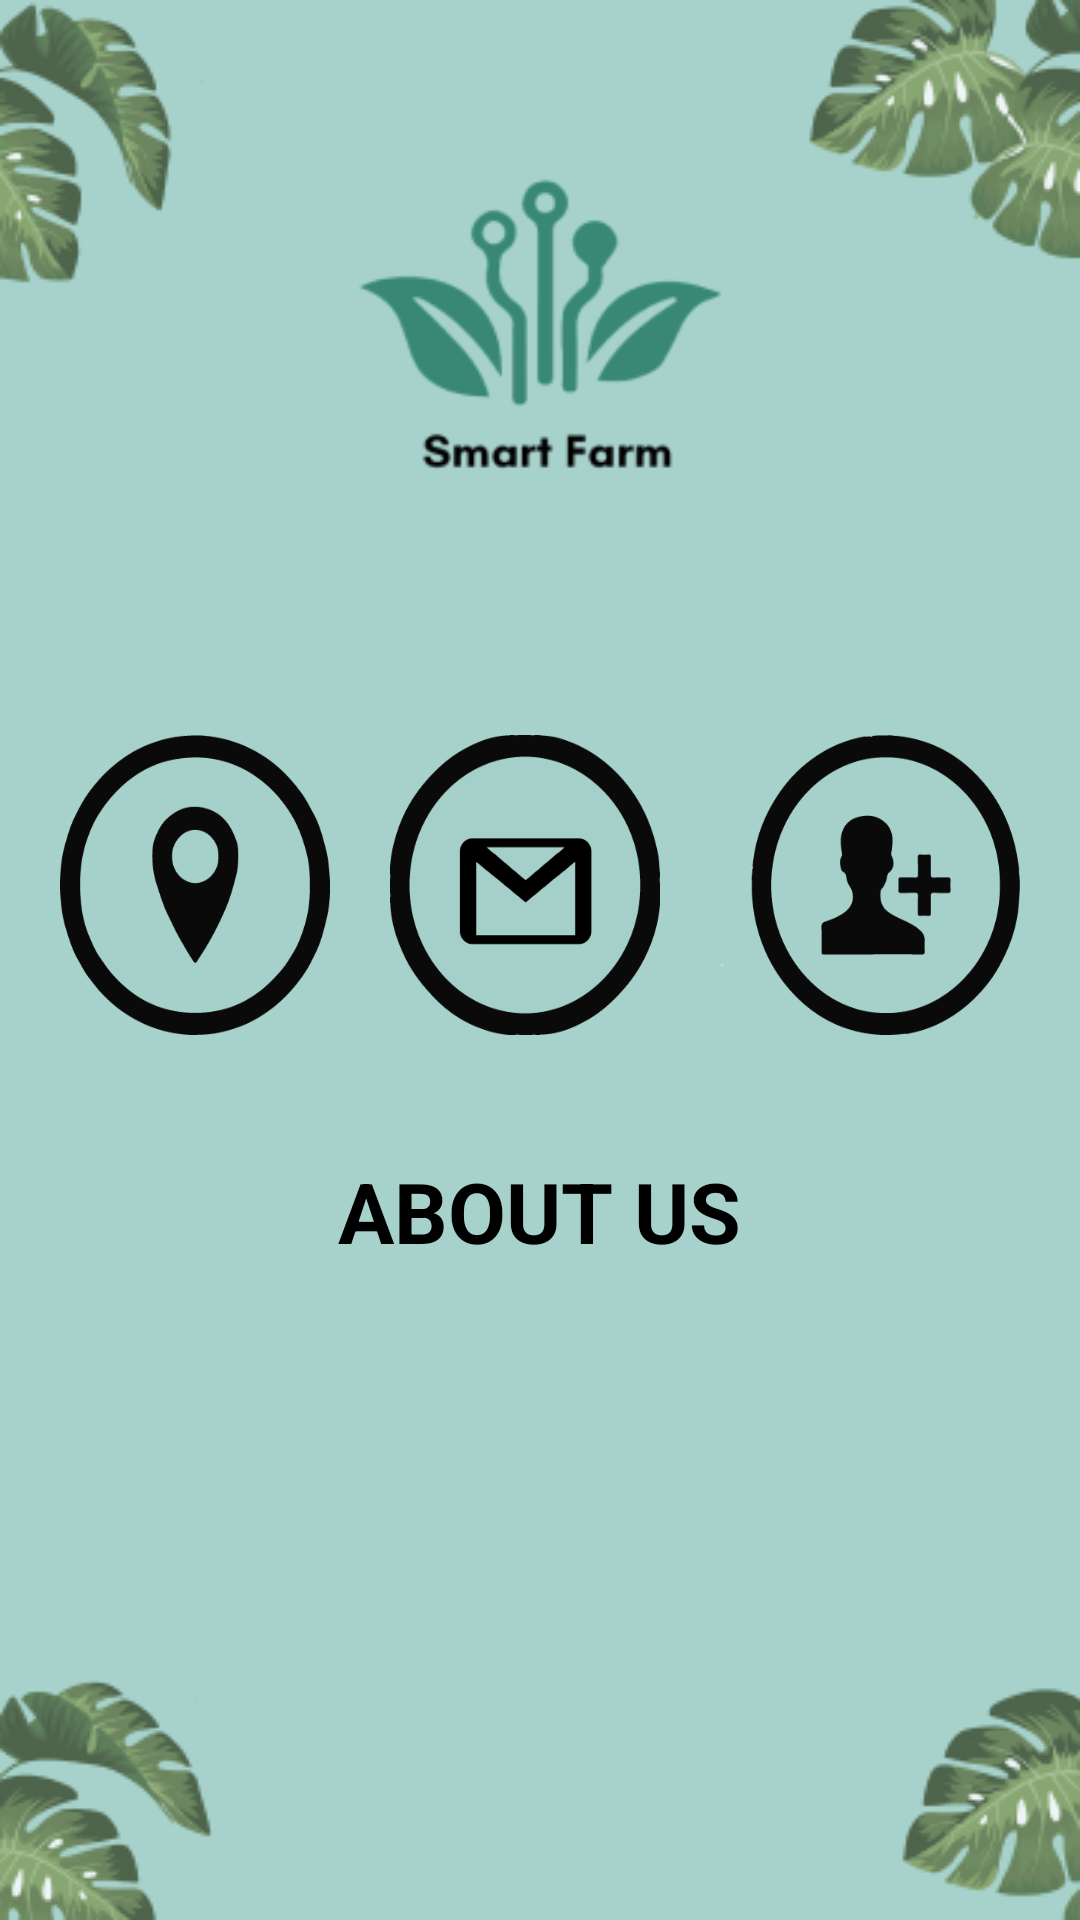

Icon click points for this 1080×1920 phone screenshot, format (x=x, y=y):
kontaks: (x=870, y=885)
maps: (x=195, y=885)
pesan: (x=525, y=885)
